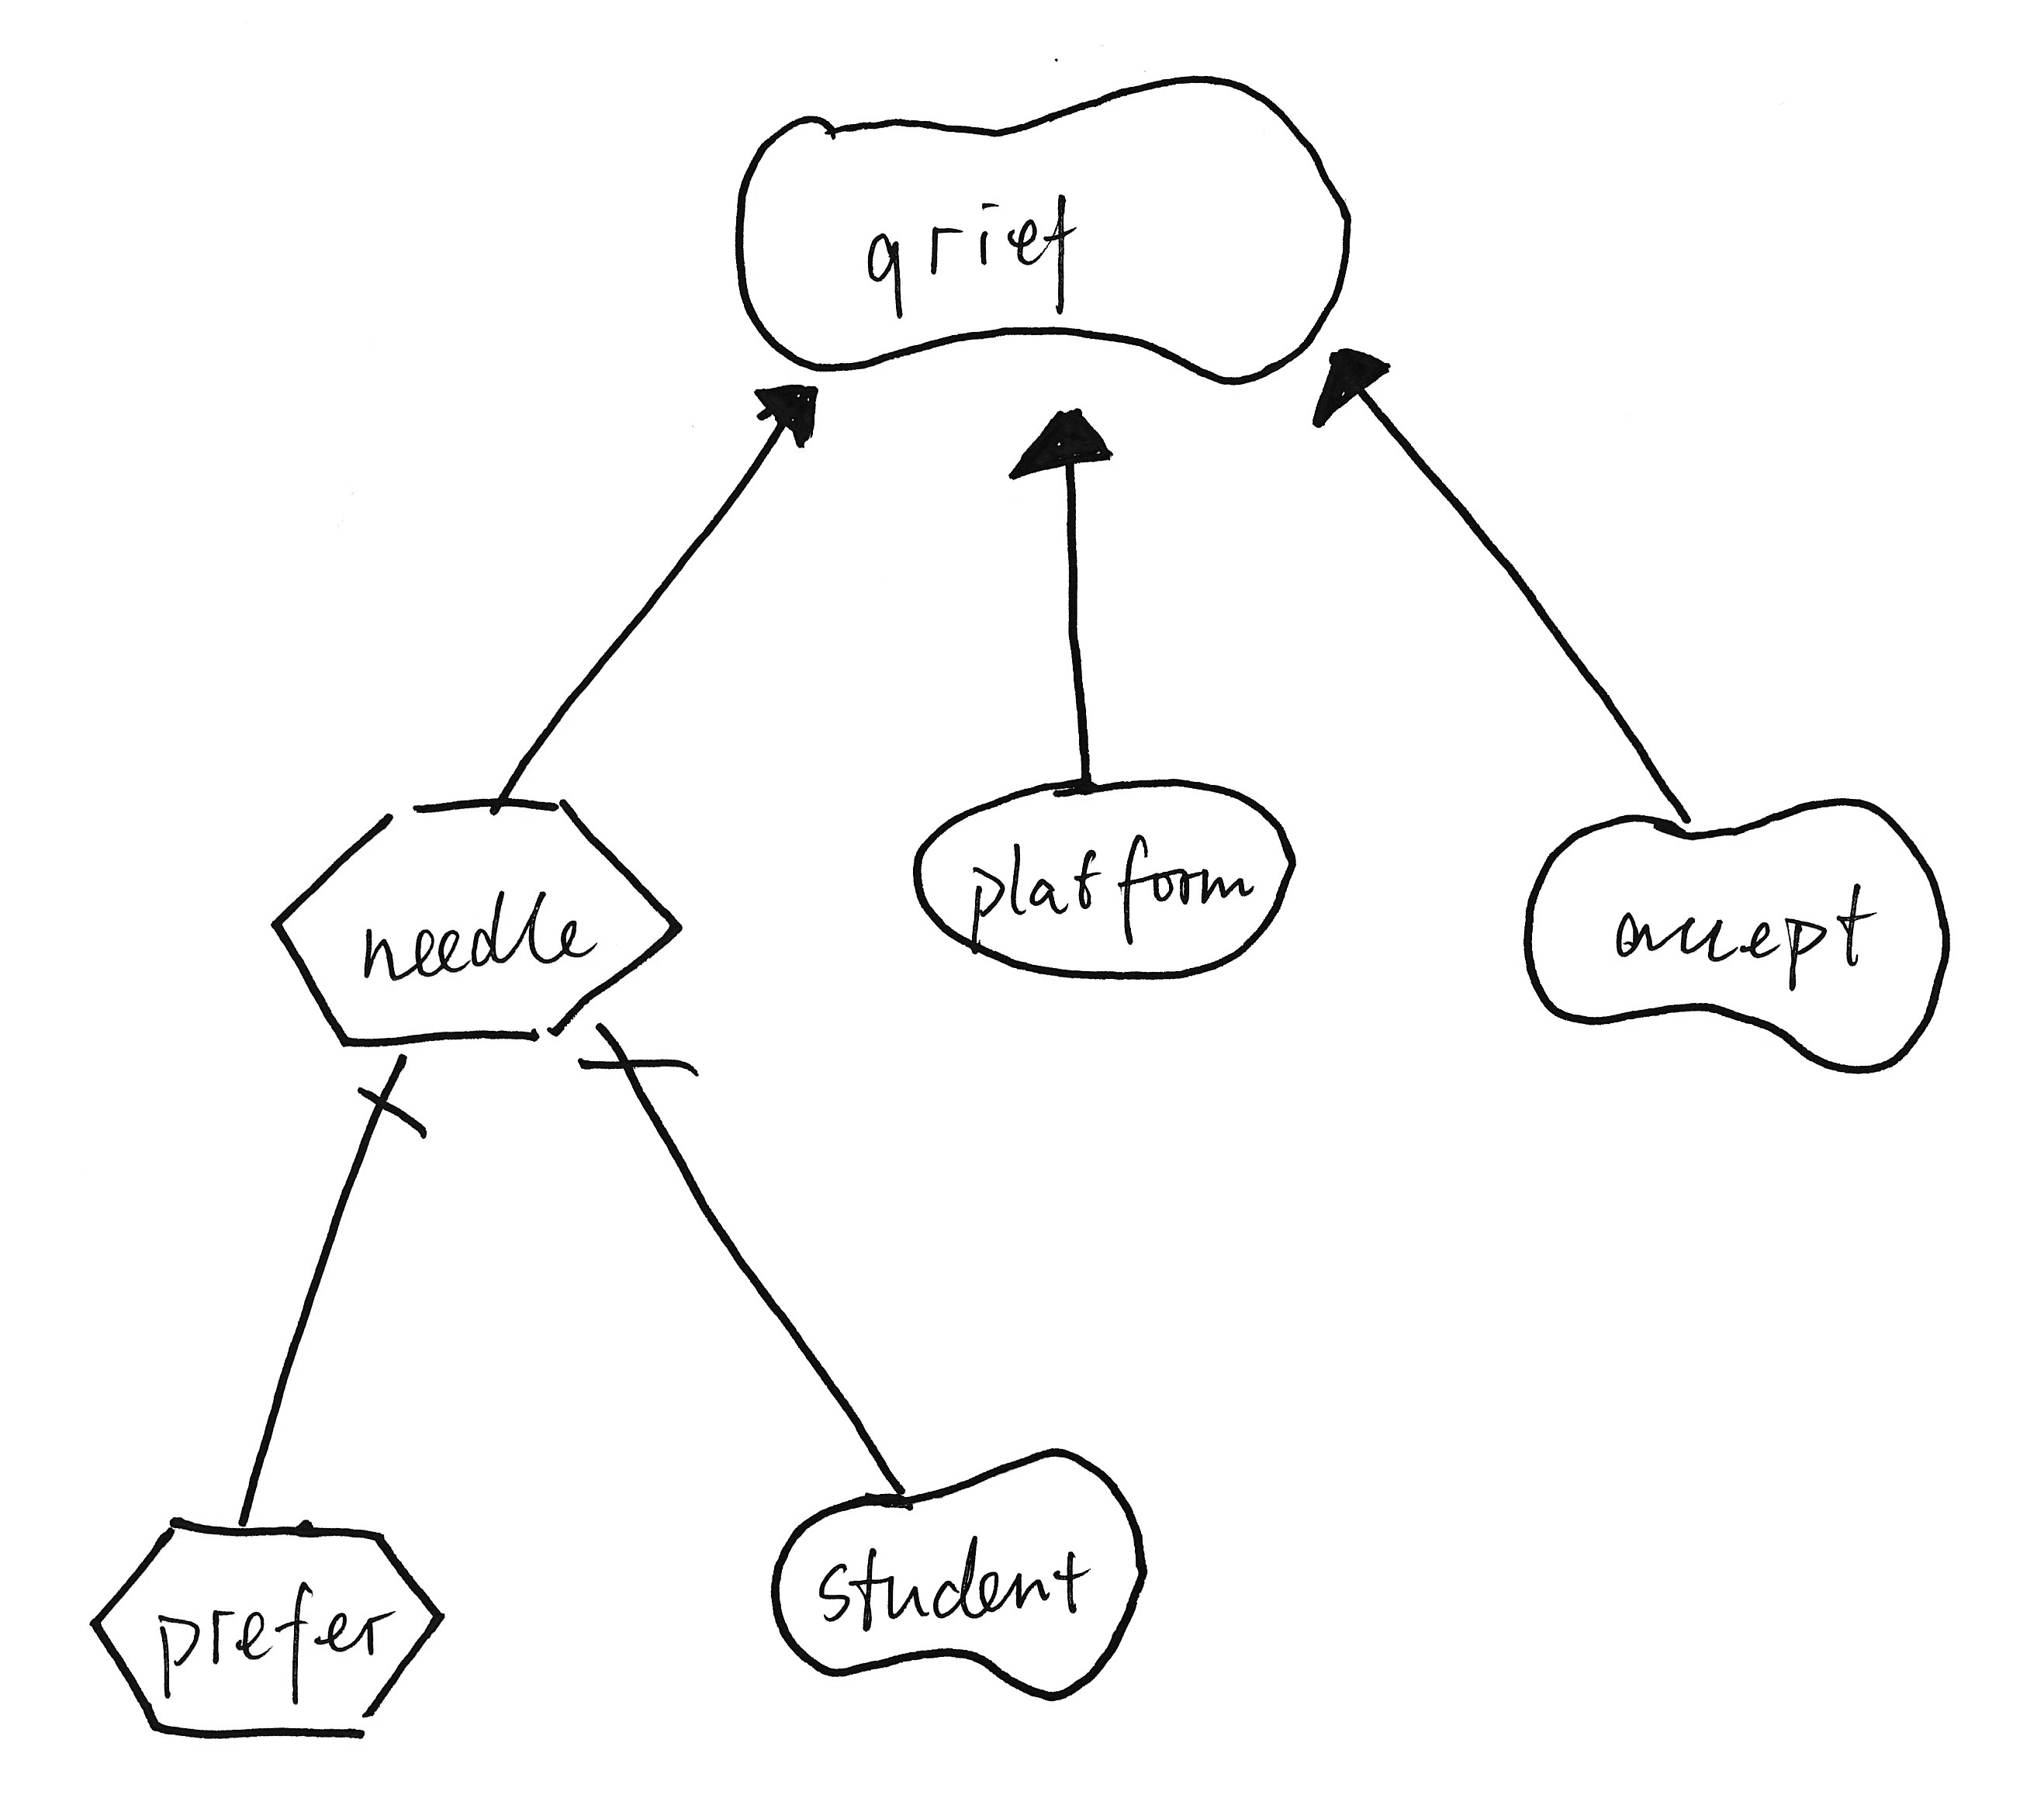and: (325, 1048, 441, 1158), (561, 1018, 701, 1100)
goal: (895, 764, 1317, 995)
or: (995, 390, 1121, 500), (1299, 339, 1402, 437), (743, 373, 838, 467)
quality: (708, 49, 1376, 392), (1504, 778, 1972, 1090), (752, 1429, 1163, 1726)
task: (255, 778, 692, 1060), (75, 1495, 463, 1756)
